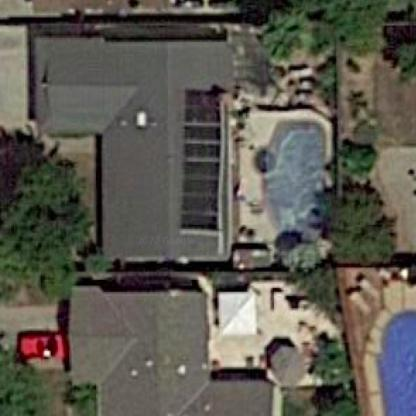car: (14, 322, 64, 374)
solar_panel: (172, 77, 236, 249)
swimming_pool: (241, 93, 332, 269), (343, 276, 415, 416)
